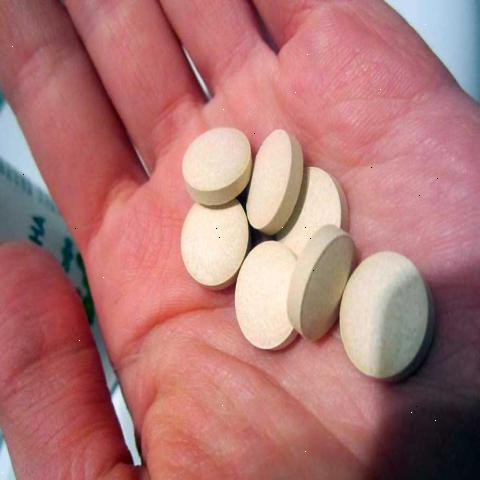Pill: (337, 250, 445, 383), (172, 107, 258, 210), (232, 235, 297, 362), (286, 229, 354, 347), (246, 113, 305, 234)
